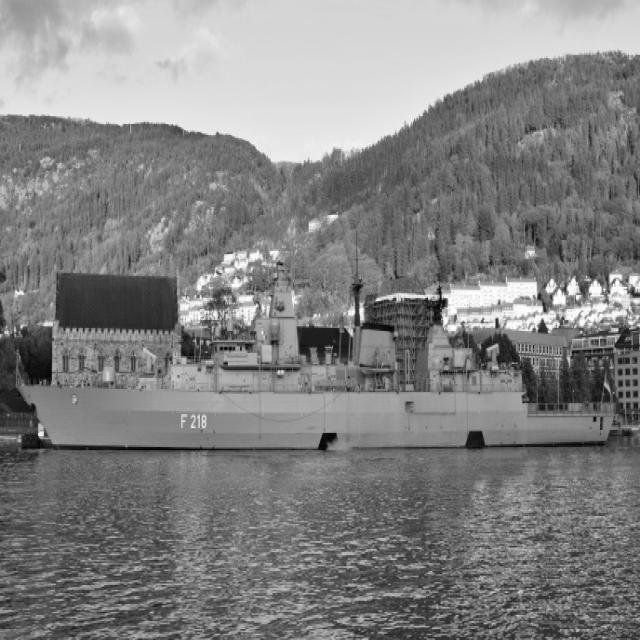Fragata: (13, 260, 621, 459)
